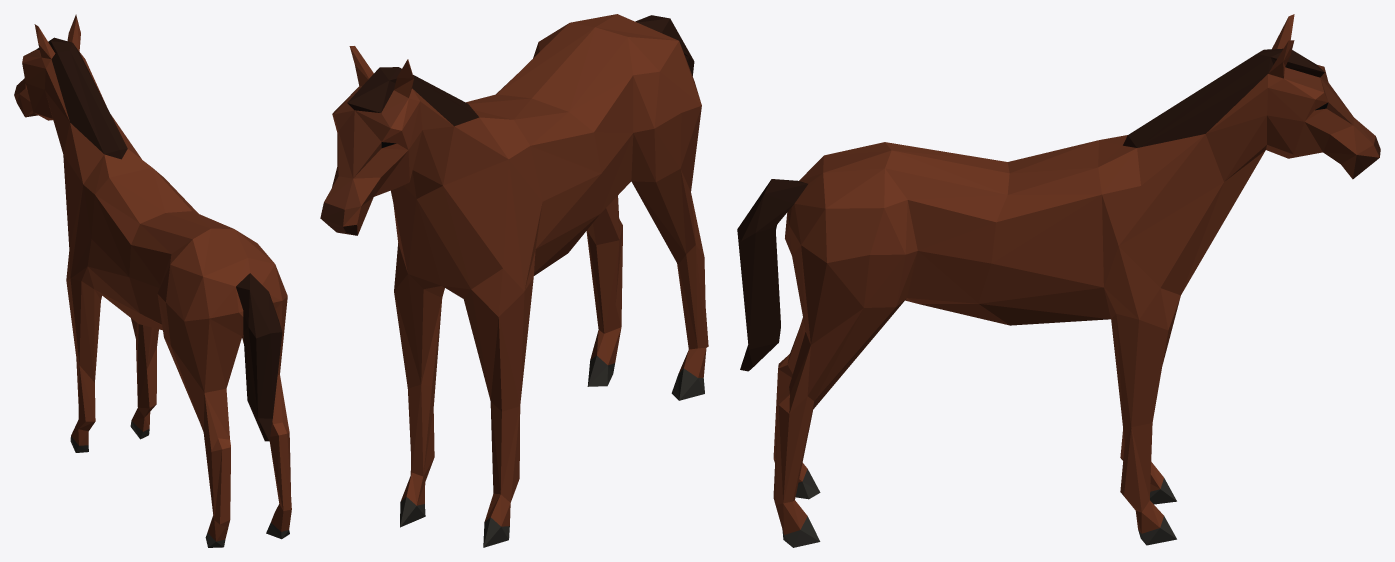
Rendered from horse.glb.
3 views of the same model, side by side, from view 1: azimuth 30°, elevation 25°; view 2: azimuth 150°, elevation 25°; view 3: azimuth 270°, elevation 25° (orthographic). The views are drawn at different scales.
Parts seen in each view (by area): view 1: horse; view 2: horse; view 3: horse.
Boxes of the visible parts, bbox=[...] form: horse: bbox=[14, 14, 291, 547]; horse: bbox=[320, 14, 708, 547]; horse: bbox=[737, 14, 1380, 547].
Size of the model in its own units: 3.04 by 10.41 by 12.25.
